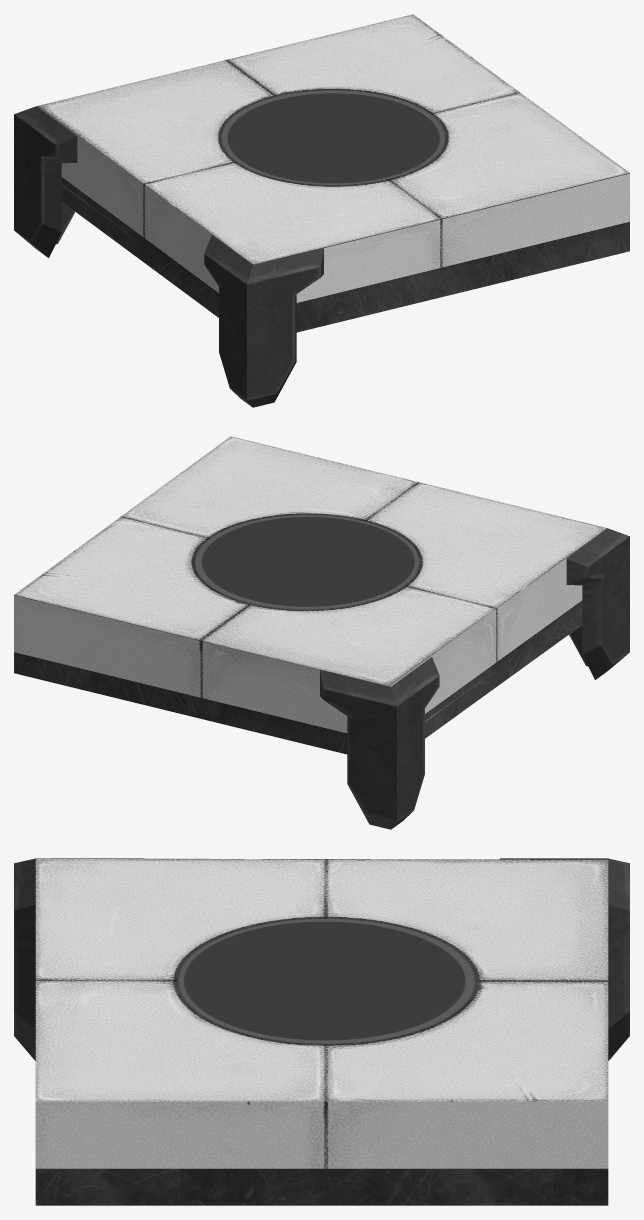
File: MOD_Platforme_3.fbx
The picture shows the model from 3 angles, top to bottom: view 1: azimuth 30°, elevation 25°; view 2: azimuth 150°, elevation 25°; view 3: azimuth 270°, elevation 25°; orthographic projection. The views are drawn at different scales.
Visible parts, largest first — view 1: MOD_Plateform22; view 2: MOD_Plateform22; view 3: MOD_Plateform22.
Part boxes in pixels (x1,y1,x2,y2): MOD_Plateform22: (14, 14, 629, 407); MOD_Plateform22: (14, 436, 629, 829); MOD_Plateform22: (14, 858, 629, 1205).
Size of the model in its own units: 1043 by 364 by 1076.
